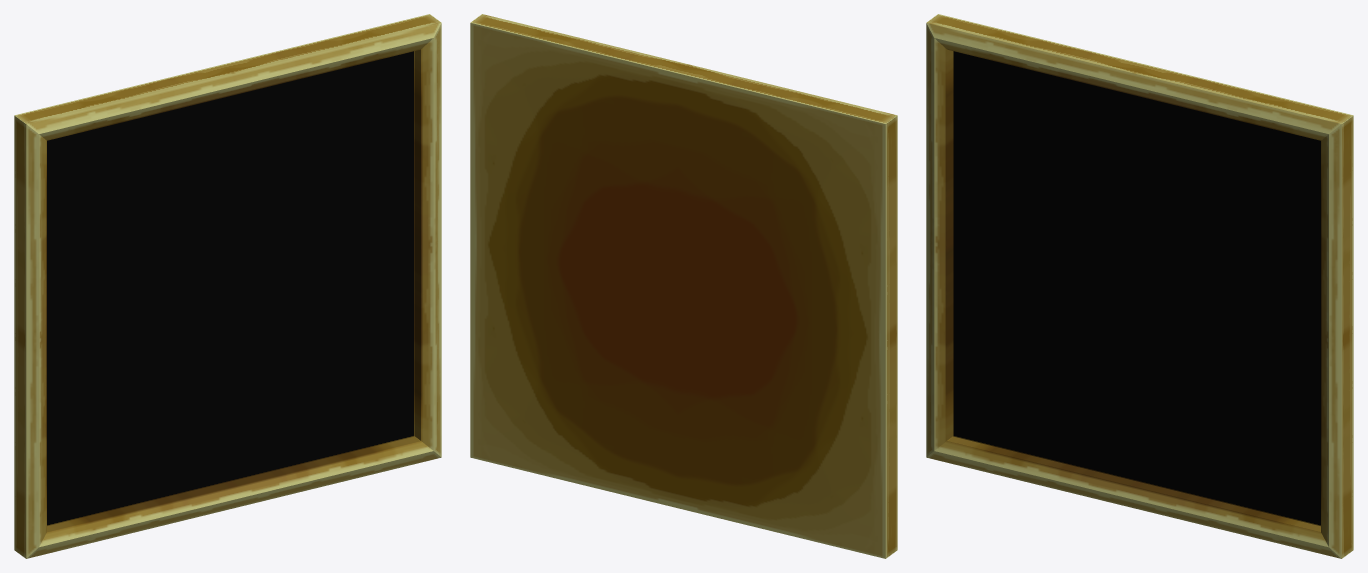
The model's file is frame_square.fbx.
The picture shows the model from 3 angles, left to right: view 1: azimuth 30°, elevation 25°; view 2: azimuth 150°, elevation 25°; view 3: azimuth 330°, elevation 25°; orthographic projection.
Parts seen in each view (by area): view 1: Frame1; view 2: Frame1; view 3: Frame1.
Part boxes in pixels (x1,y1,x2,y2): Frame1: (14, 14, 441, 558); Frame1: (470, 14, 897, 558); Frame1: (926, 14, 1353, 558).
Size of the model in its own units: 100 by 100 by 6.
Materials: 1 (1 with a texture image).
